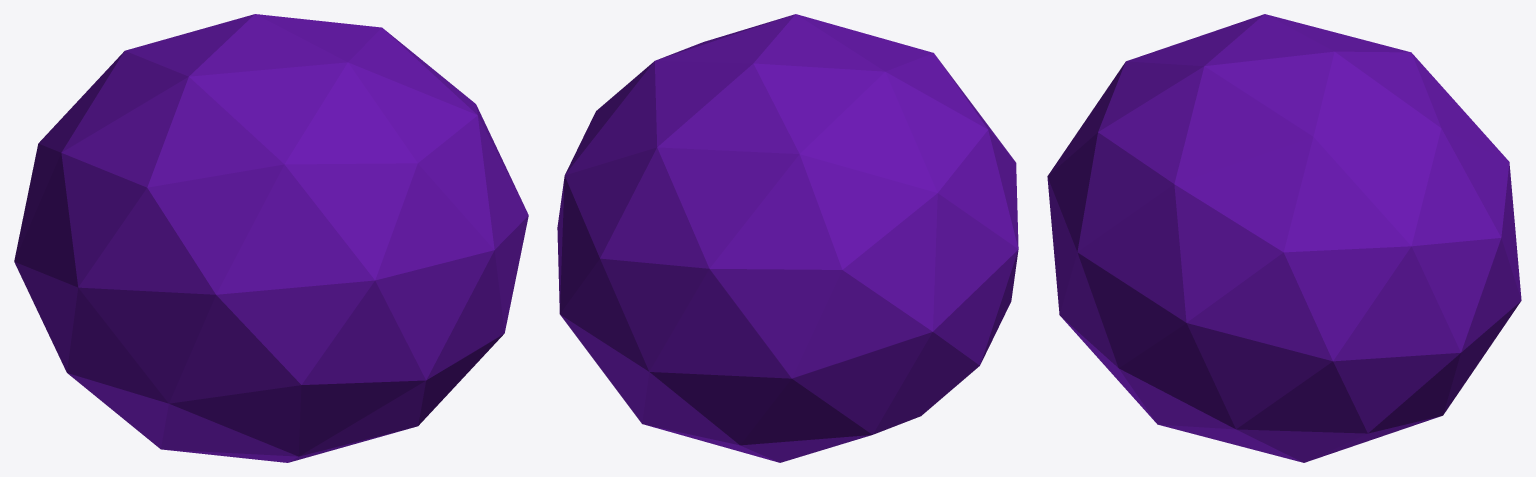
The model's file is LavaBubble_3.fbx.
3 renders of one model, left to right at view 1: azimuth 30°, elevation 25°; view 2: azimuth 150°, elevation 25°; view 3: azimuth 270°, elevation 25°, orthographic. The views are drawn at different scales.
Parts seen in each view (by area): view 1: LavaBubble_3; view 2: LavaBubble_3; view 3: LavaBubble_3.
Part boxes in pixels (x1,y1,x2,y2): LavaBubble_3: (14, 14, 528, 462); LavaBubble_3: (557, 14, 1018, 462); LavaBubble_3: (1047, 14, 1521, 462).
Bounding box in the file's own units: 246 × 218 × 244.
